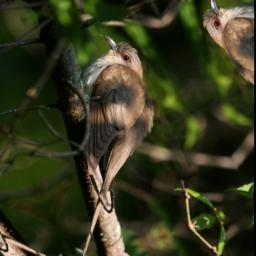Cuckoo: (0, 25, 218, 256)
